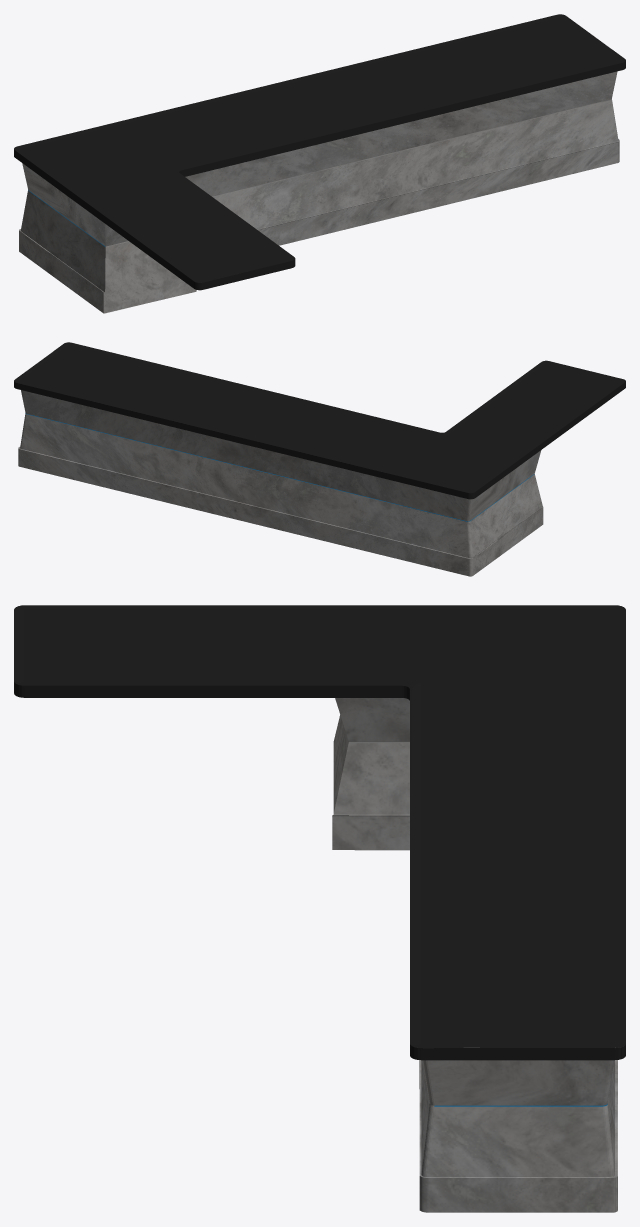
File: bar_table.glb
3 renders of one model, top to bottom at view 1: azimuth 30°, elevation 25°; view 2: azimuth 150°, elevation 25°; view 3: azimuth 270°, elevation 25°, orthographic. The views are drawn at different scales.
Visible parts, largest first — view 1: BAR TABLE_Baked_1; view 2: BAR TABLE_Baked_1, BAR TABLE.001_0; view 3: BAR TABLE_Baked_1.
Boxes of the visible parts, <box> form: BAR TABLE_Baked_1: <box>14,14,625,313</box>; BAR TABLE_Baked_1: <box>14,342,625,576</box>; BAR TABLE.001_0: <box>25,413,534,521</box>; BAR TABLE_Baked_1: <box>14,605,625,1212</box>.
Bounding box in the file's own units: 9.96 × 1.76 × 5.82.
2 materials, 2 textured.
